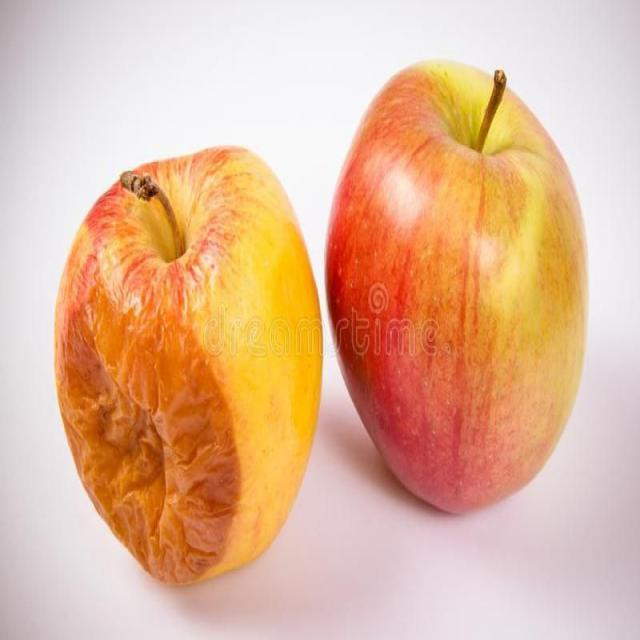Fresh Apple: (325, 82, 612, 505)
Rotten: (30, 155, 318, 567)
